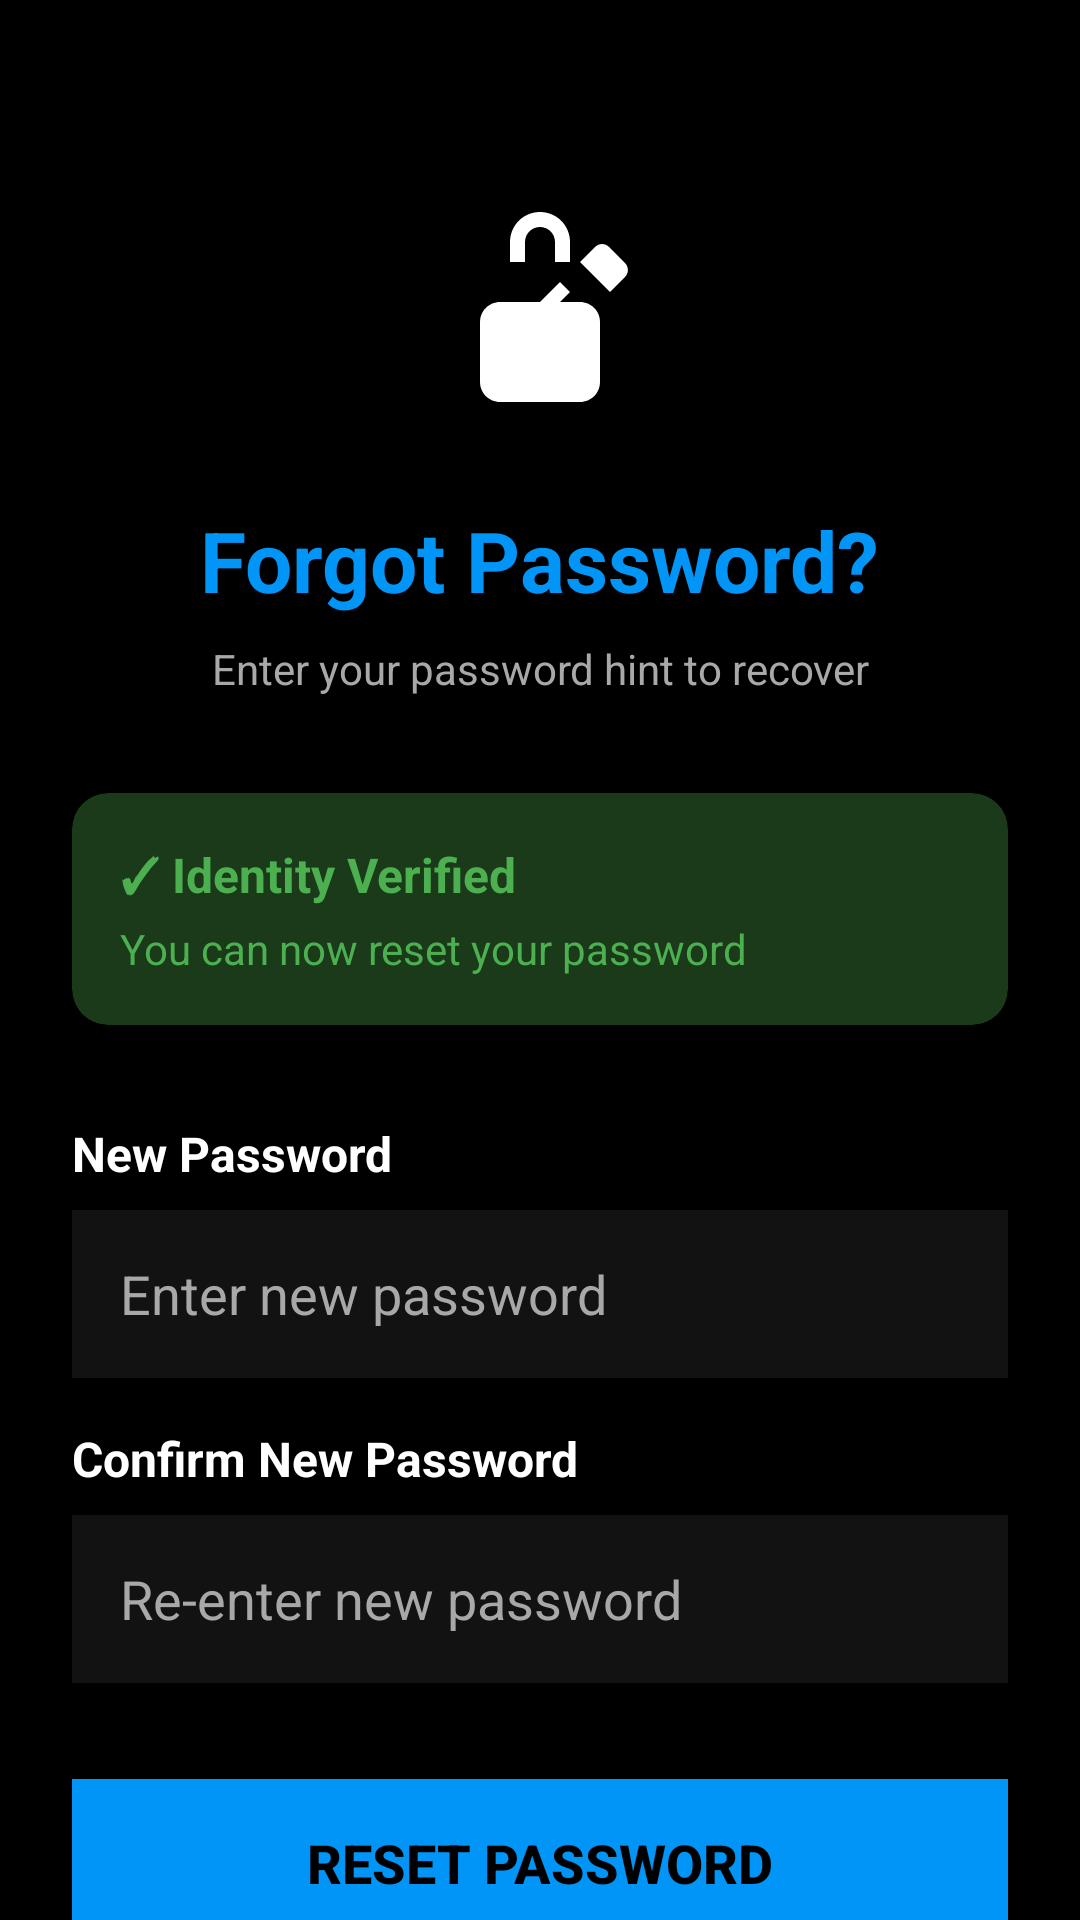

Named icons in this screenshot (1080w x 1920h) and their bounding boxes, region(x1, y1, x2, y2):
Lock and key icon: region(480, 212, 628, 402)
